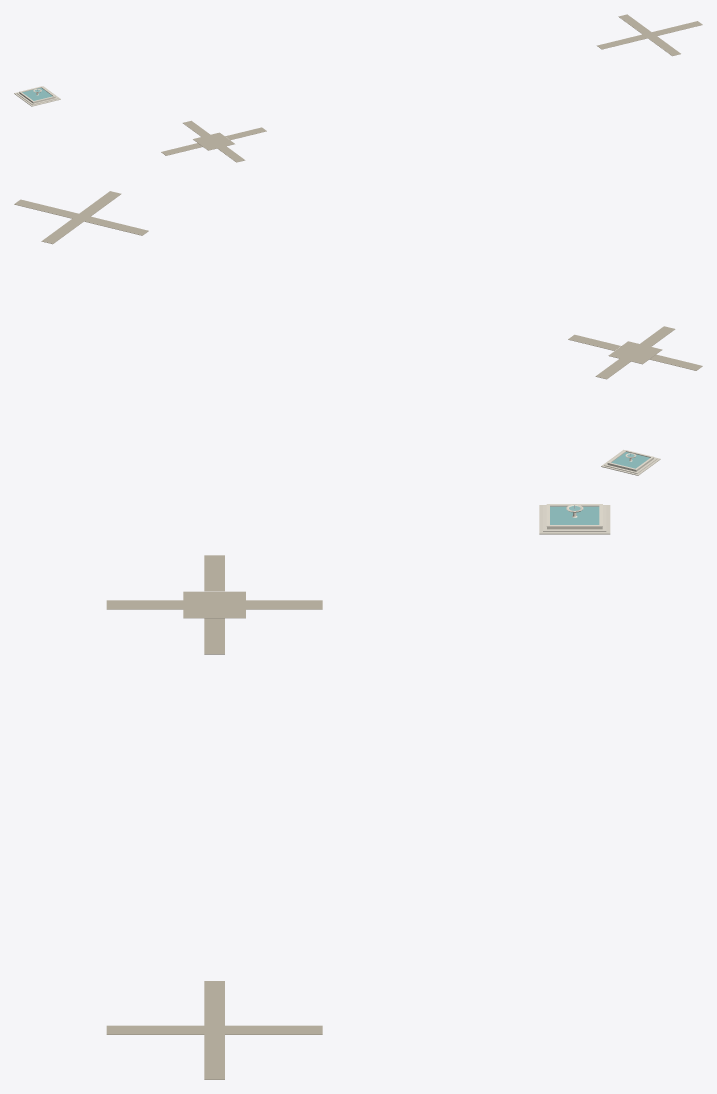
File: SM_BM_BHip_StandGardens.glb
The picture shows the model from 3 angles, top to bottom: view 1: azimuth 30°, elevation 25°; view 2: azimuth 150°, elevation 25°; view 3: azimuth 270°, elevation 25°; orthographic projection. The views are drawn at different scales.
Visible parts, largest first — view 1: SM_BM_BHip_StandGardens; view 2: SM_BM_BHip_StandGardens; view 3: SM_BM_BHip_StandGardens.
Part boxes in pixels (x1,y1,x2,y2): SM_BM_BHip_StandGardens: [14, 14, 702, 162]; SM_BM_BHip_StandGardens: [14, 191, 702, 475]; SM_BM_BHip_StandGardens: [106, 504, 610, 1079].
Size of the model in its own units: 156 by 2.07 by 58.05.
